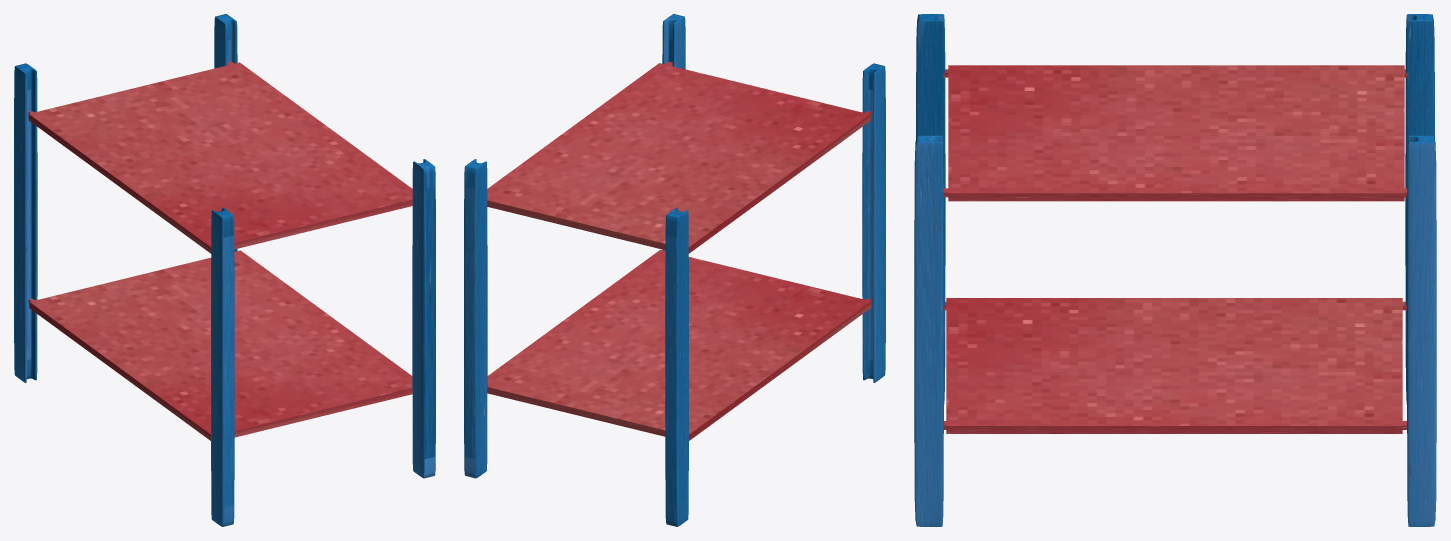
Rendered from ShelfFixed.fbx.
3 views of the same model, side by side, from view 1: azimuth 30°, elevation 25°; view 2: azimuth 150°, elevation 25°; view 3: azimuth 270°, elevation 25° (orthographic). The views are drawn at different scales.
Parts seen in each view (by area): view 1: pasted__pCube6, pasted__pCube5, pCube7, pCube1, pCube8, pCube9; view 2: pasted__pCube6, pasted__pCube5, pCube8, pCube9, pCube7, pCube1; view 3: pasted__pCube6, pasted__pCube5, pCube1, pCube9, pCube8, pCube7.
Part boxes in pixels (x1,y1,x2,y2): pasted__pCube6: [28, 61, 412, 253]; pasted__pCube5: [28, 250, 412, 440]; pCube7: [211, 207, 234, 526]; pCube1: [412, 159, 435, 478]; pCube8: [14, 63, 37, 382]; pCube9: [214, 14, 237, 251]; pasted__pCube6: [487, 61, 871, 253]; pasted__pCube5: [487, 250, 871, 440]; pCube8: [665, 207, 688, 526]; pCube9: [464, 159, 487, 478]; pCube7: [862, 63, 885, 382]; pCube1: [662, 14, 685, 250]; pasted__pCube6: [943, 65, 1407, 201]; pasted__pCube5: [944, 298, 1406, 433]; pCube1: [914, 135, 943, 526]; pCube9: [1407, 135, 1436, 526]; pCube8: [1405, 14, 1434, 403]; pCube7: [916, 14, 945, 403].
Size of the model in its own units: 6.09 by 8.41 by 10.34.
2 materials, 2 textured.
